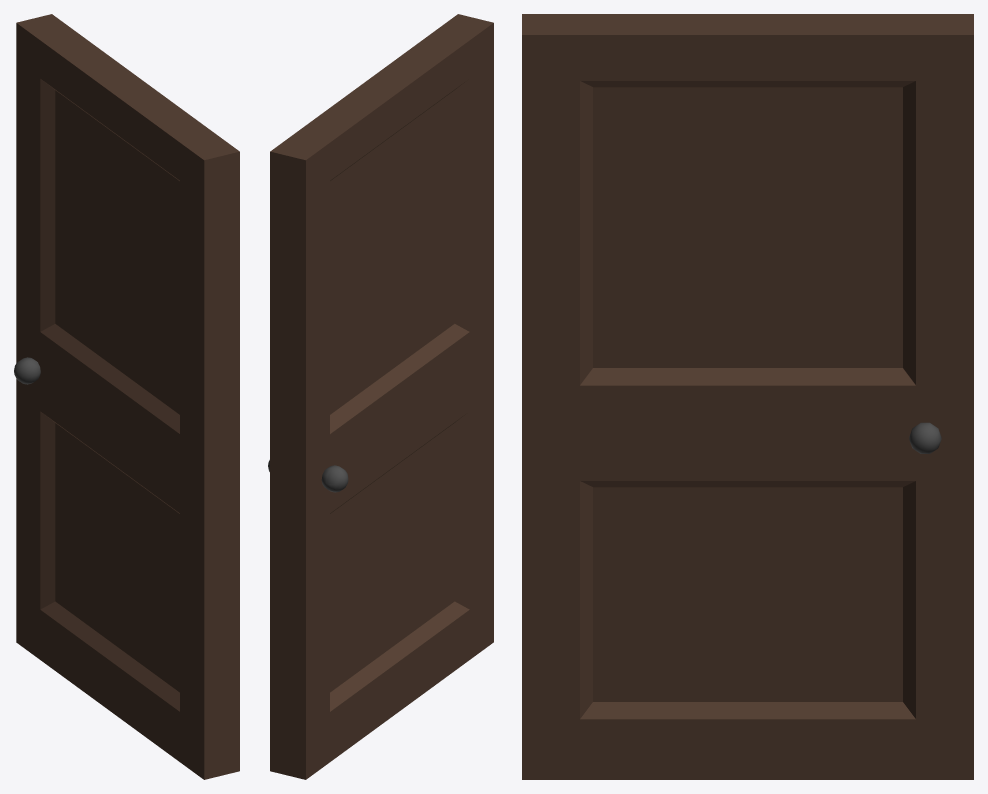
Rendered from Door.glb.
3 renders of one model, left to right at view 1: azimuth 30°, elevation 25°; view 2: azimuth 150°, elevation 25°; view 3: azimuth 270°, elevation 25°, orthographic. The views are drawn at different scales.
Parts seen in each view (by area): view 1: S_Door; view 2: S_Door; view 3: S_Door.
Boxes of the visible parts, left/top/right/bottom form: S_Door: left=14, top=14, right=239, bottom=779; S_Door: left=268, top=14, right=493, bottom=779; S_Door: left=522, top=14, right=973, bottom=779.
Bounding box in the file's own units: 0.2932 × 2.25 × 1.24.
